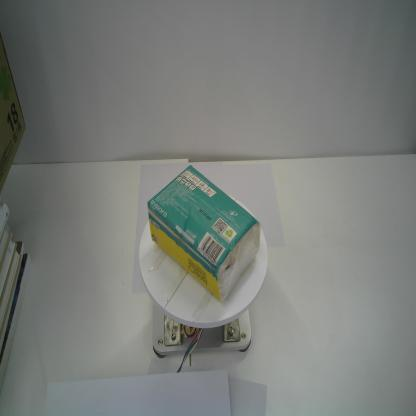Tissue: (146, 165, 262, 303)
